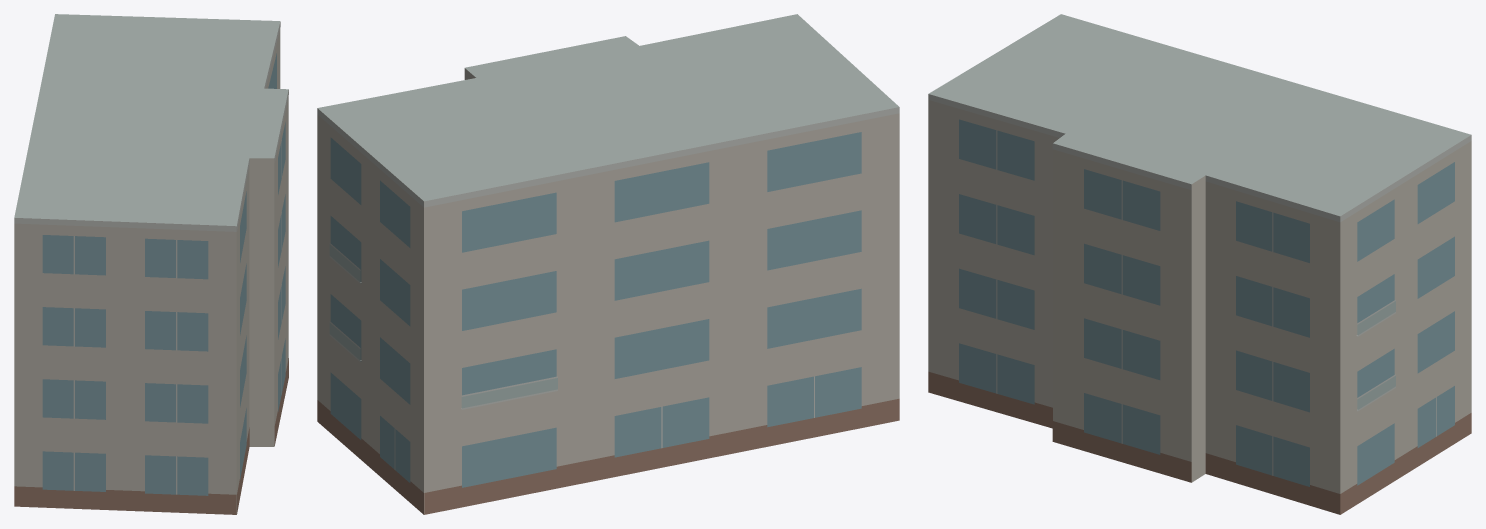
File: survey-upis-32683914.glb
The picture shows the model from 3 angles, left to right: view 1: azimuth 30°, elevation 25°; view 2: azimuth 150°, elevation 25°; view 3: azimuth 270°, elevation 25°; orthographic projection. The views are drawn at different scales.
Visible parts, largest first — view 1: survey-upis-32683914.tmp; view 2: survey-upis-32683914.tmp; view 3: survey-upis-32683914.tmp.
Part boxes in pixels (x1,y1,x2,y2): survey-upis-32683914.tmp: (14,14,288,514); survey-upis-32683914.tmp: (317,14,899,514); survey-upis-32683914.tmp: (928,14,1471,514).
Size of the model in its own units: 17.83 by 12.25 by 20.22.
